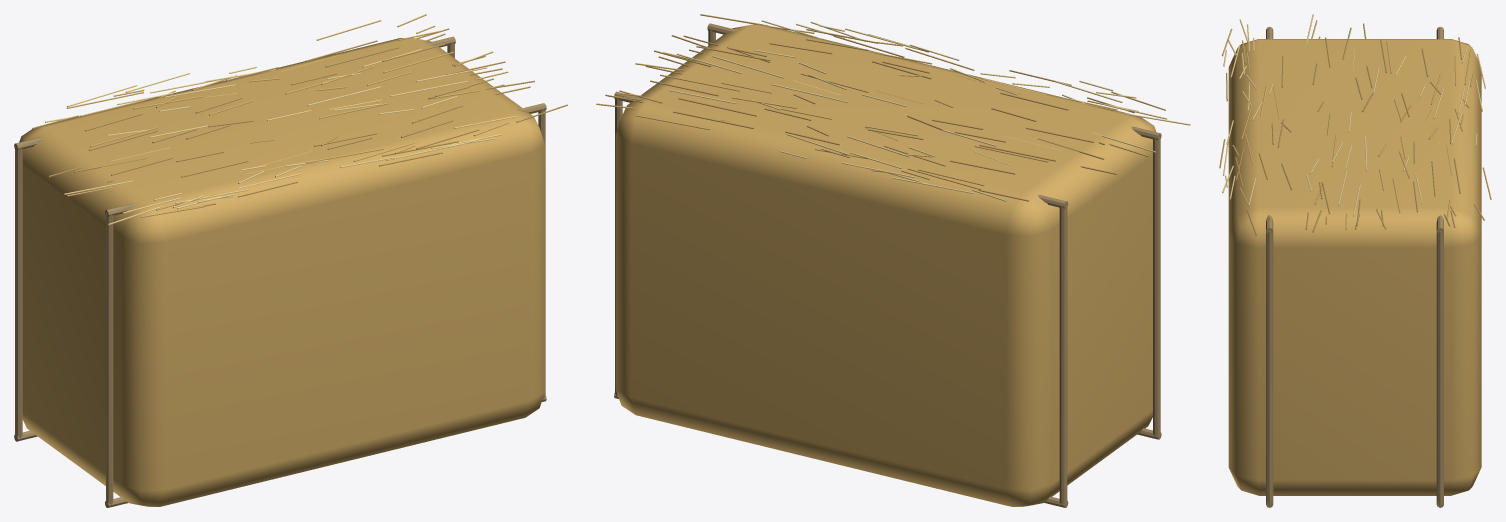
Rendered from Thanksgiving_Rectangular_Hay_Bale.glb.
3 views of the same model, side by side, from view 1: azimuth 30°, elevation 25°; view 2: azimuth 150°, elevation 25°; view 3: azimuth 270°, elevation 25° (orthographic). The views are drawn at different scales.
Parts seen in each view (by area): view 1: Uneven rectangular bale, Twine down side.002, Twine down side; view 2: Uneven rectangular bale, Twine down side.002, Twine down side; view 3: Uneven rectangular bale, Twine down side.001, Twine down side.003.
Boxes of the visible parts, <box> form: Uneven rectangular bale: <box>19,38,545,506</box>; Twine down side.002: <box>15,147,22,438</box>; Twine down side: <box>106,213,113,504</box>; Uneven rectangular bale: <box>615,24,1156,506</box>; Twine down side.002: <box>1059,205,1067,504</box>; Twine down side: <box>1153,137,1160,436</box>; Uneven rectangular bale: <box>1228,39,1481,495</box>; Twine down side.001: <box>1266,231,1273,504</box>; Twine down side.003: <box>1436,231,1443,504</box>.
Bounding box in the file's own units: 1.68 × 1.06 × 0.8931.
